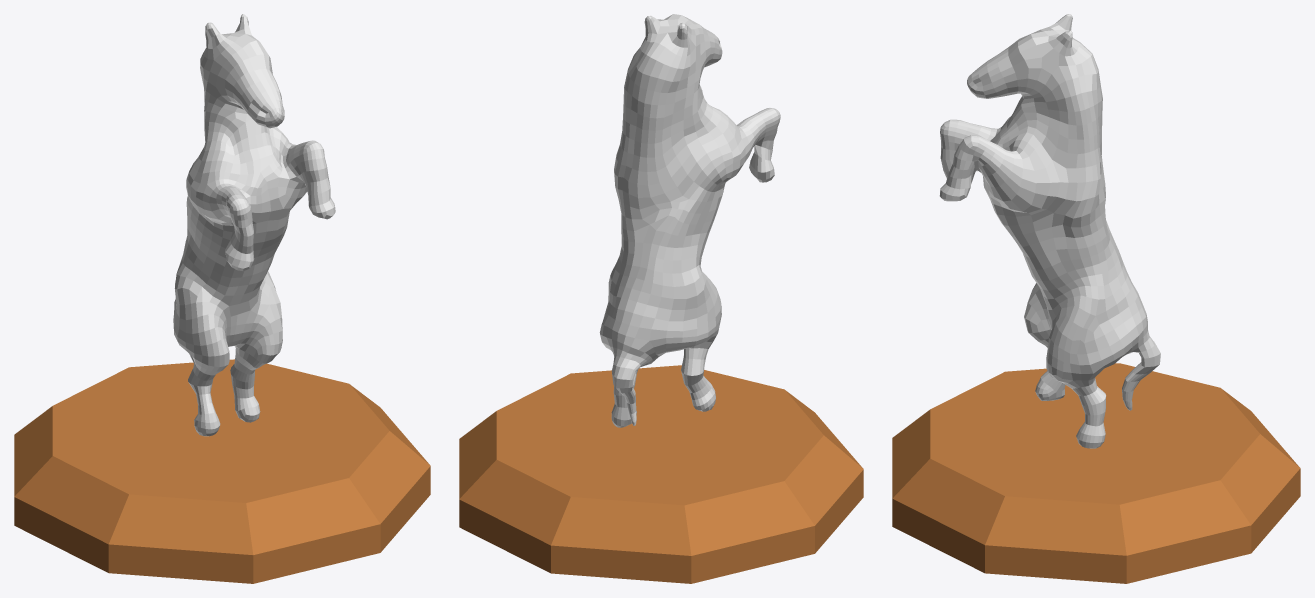
File: Horse.fbx
The picture shows the model from 3 angles, left to right: view 1: azimuth 30°, elevation 25°; view 2: azimuth 150°, elevation 25°; view 3: azimuth 270°, elevation 25°; orthographic projection. The views are drawn at different scales.
Visible parts, largest first — view 1: cavalo.001; view 2: cavalo.001; view 3: cavalo.001.
Boxes of the visible parts, x1,y1,x2,y2 form: cavalo.001: (14, 14, 430, 583); cavalo.001: (459, 14, 863, 583); cavalo.001: (892, 14, 1300, 583).
Bounding box in the file's own units: 157 × 198 × 154.
